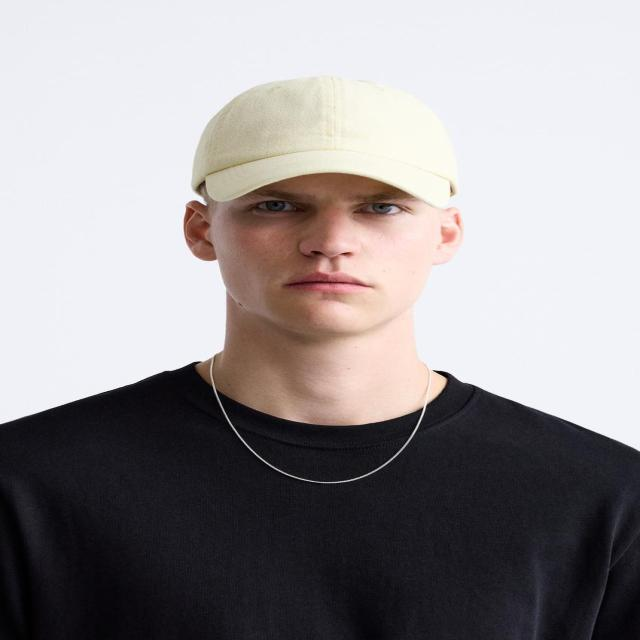Cap: (191, 74, 459, 210)
